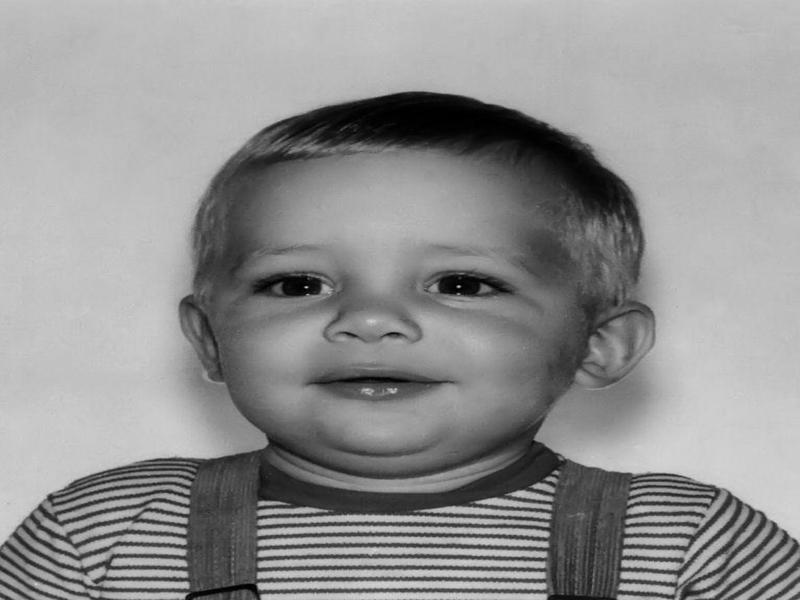person: (14, 89, 793, 600)
